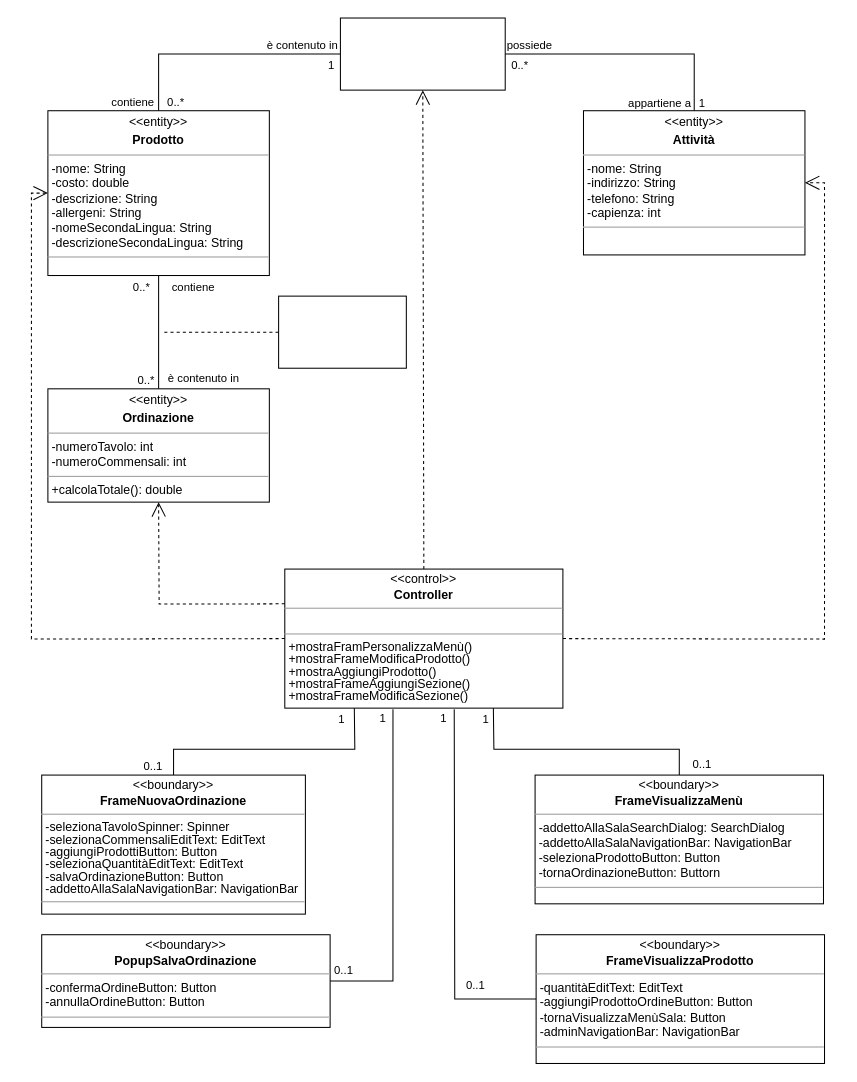
Image size: 857x1082. Some labels were removed from this diagram. Each missing label, with the box of its shape:
<<entity>> SezioneMenù -nome: String: (339, 17, 505, 90)
<<entity>> SingoloOrdine -quantitàProdotto: int: (278, 295, 406, 368)
